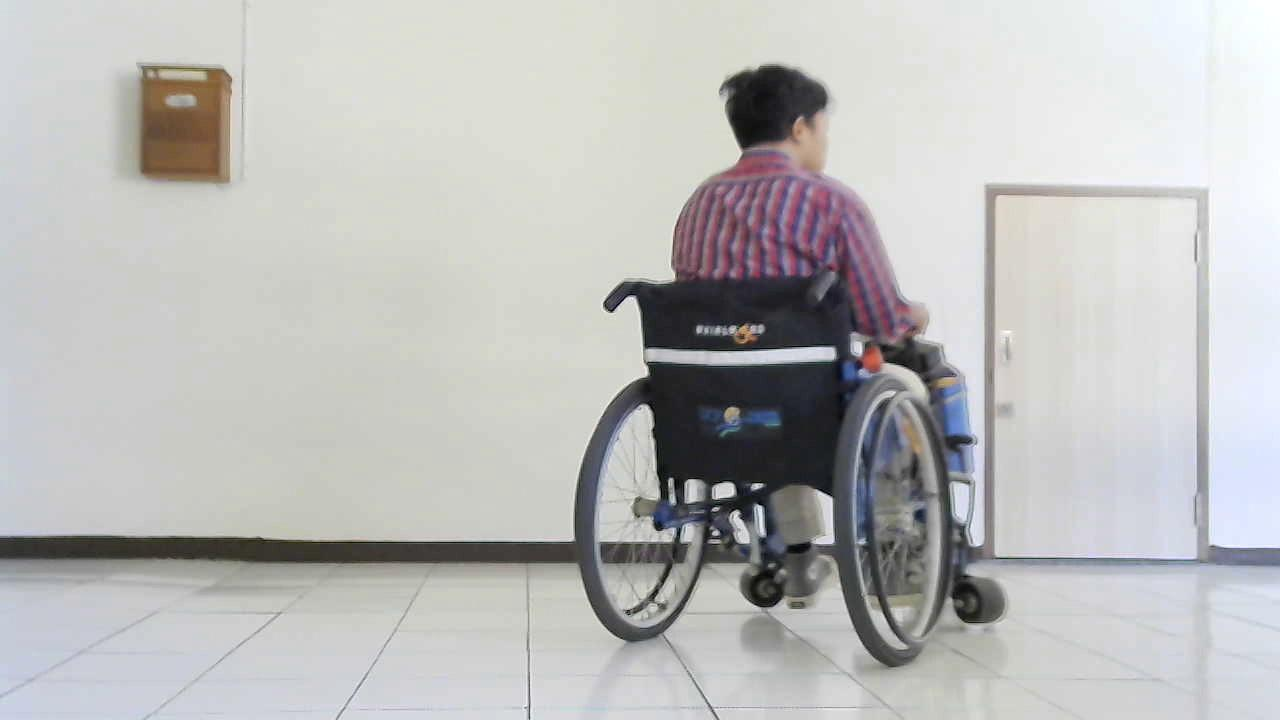person: (669, 65, 976, 511)
wheelchair: (558, 260, 1021, 681)
